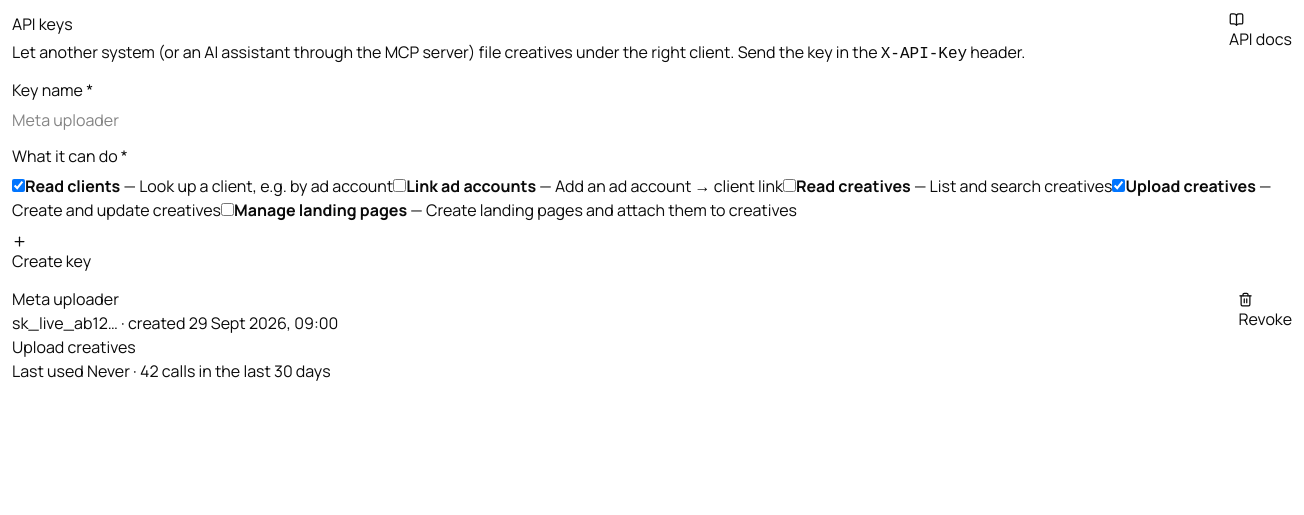
Test: ApiKeysSettings › creates a key with the chosen scopes and shows it once
In the field with placeholder "Meta uploader": (222, 120) [12, 108, 432, 132], type "Taboola sync"
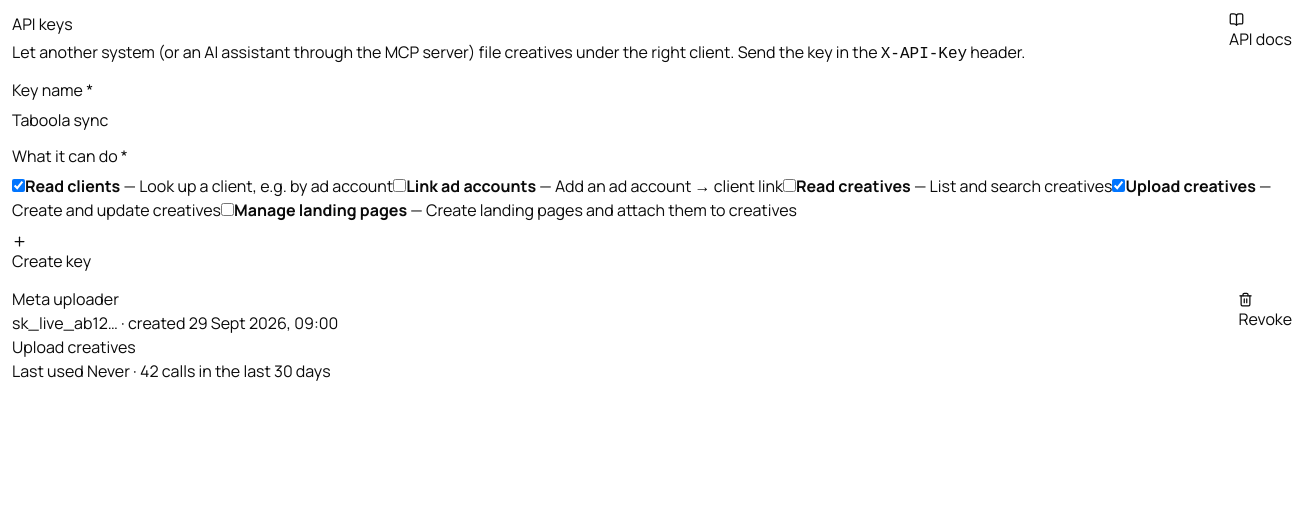
Click the checkbox labelled "Read creatives — List and search creatives": (790, 186) [783, 179, 796, 192]
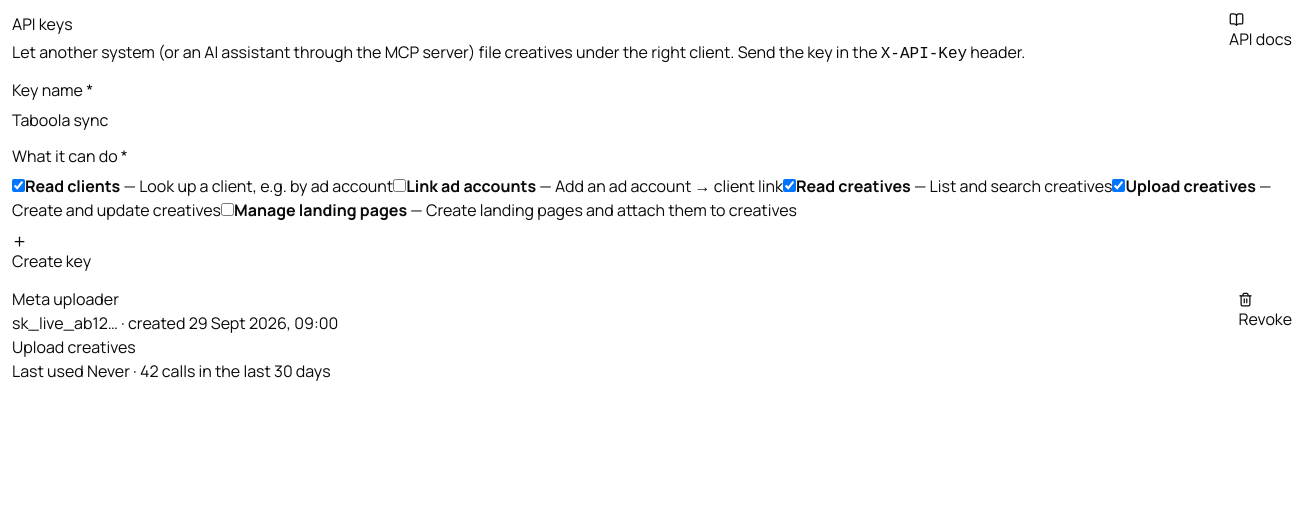
Click the button "Create key": (52, 254) [12, 234, 91, 273]
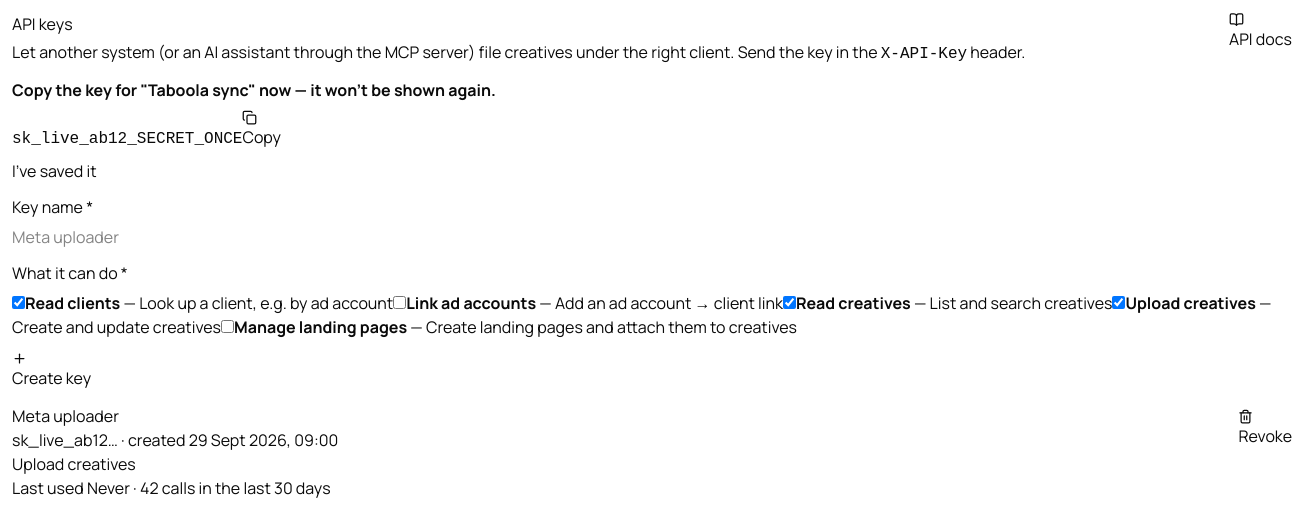
expect the message with test id "shown-once-secret" shows "sk_live_ab12_SECRET_ONCE": met, box [12, 130, 242, 148]
expect the text "won't be shown again" is shown: met, box [248, 79, 496, 101]
Click the button "I've saved it": (54, 171) [12, 159, 97, 183]
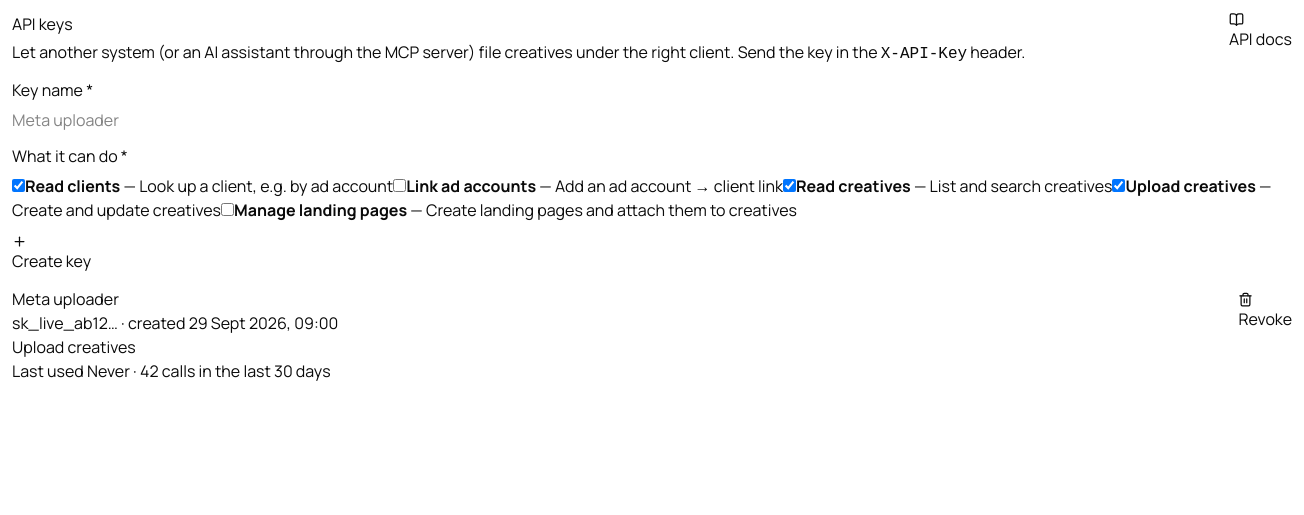
expect the text "sk_live_ab12_SECRET_ONCE" is gone: met
